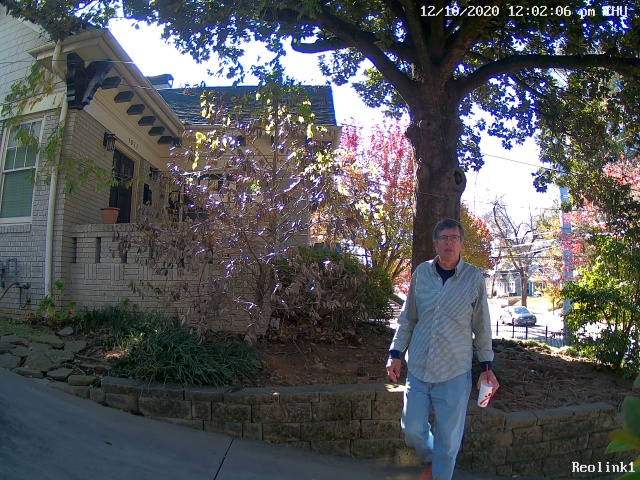person: (378, 210, 503, 478)
